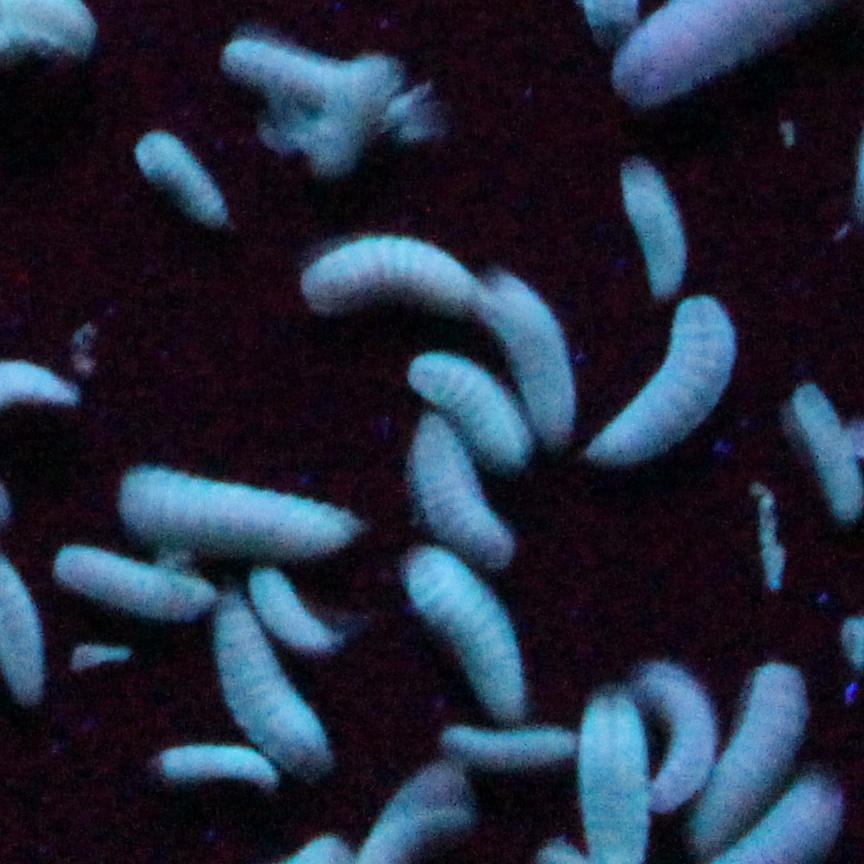larve: (111, 462, 351, 569), (591, 302, 738, 469), (211, 596, 331, 769), (411, 556, 531, 722), (224, 56, 418, 156), (408, 424, 517, 578), (304, 236, 484, 329), (704, 656, 804, 822), (43, 537, 214, 620), (404, 356, 531, 462), (498, 275, 566, 462), (584, 696, 651, 856), (138, 136, 238, 236), (618, 162, 684, 309), (250, 572, 353, 659), (446, 724, 576, 769)
